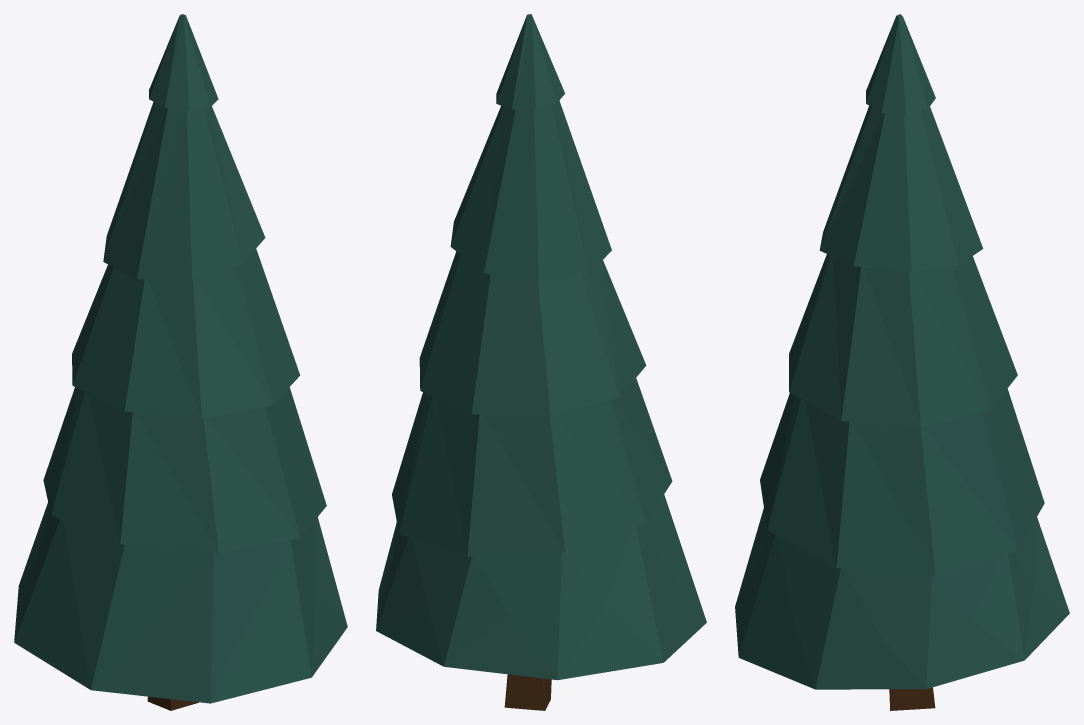
Rendered from tree3.fbx.
3 views of the same model, side by side, from view 1: azimuth 30°, elevation 25°; view 2: azimuth 150°, elevation 25°; view 3: azimuth 270°, elevation 25° (orthographic).
Parts seen in each view (by area): view 1: Circle; view 2: Circle, Circle.001; view 3: Circle, Circle.001.
Part boxes in pixels (x1,y1,x2,y2): Circle: (14,14,347,703); Circle: (376,14,706,680); Circle.001: (504,674,551,710); Circle: (735,14,1069,689); Circle.001: (889,687,935,710).
Bounding box in the file's own units: 253 × 573 × 251.
